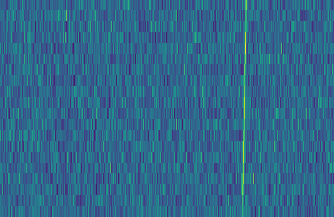signal: (239, 0, 251, 217)
